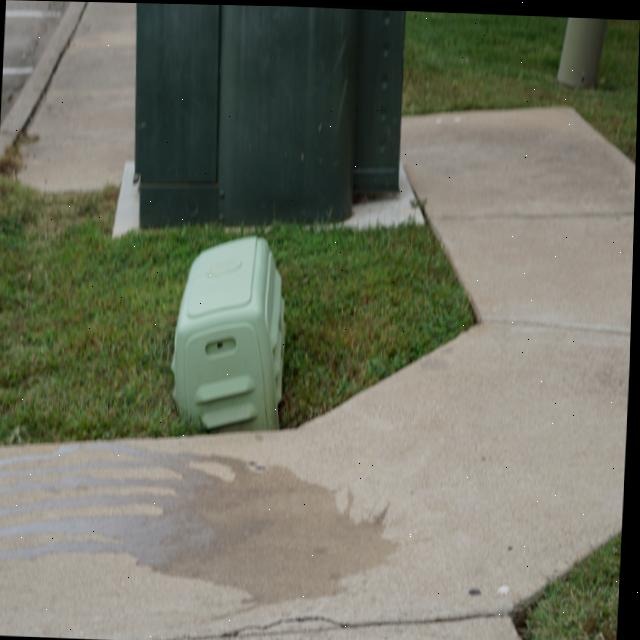Obstacle: (136, 2, 405, 227), (218, 4, 361, 222), (173, 235, 286, 429), (558, 14, 607, 84)
Sidewalk: (0, 100, 637, 640), (0, 1, 133, 181)
